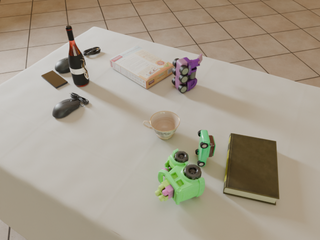book: (223, 133, 279, 205)
bottle: (66, 26, 89, 87)
box: (109, 46, 174, 89)
cup: (143, 111, 180, 139)
mouse: (52, 92, 89, 118), (55, 58, 70, 73)
phone: (41, 71, 68, 88)
toy_car: (155, 149, 205, 205), (172, 54, 202, 93), (195, 130, 216, 166)
